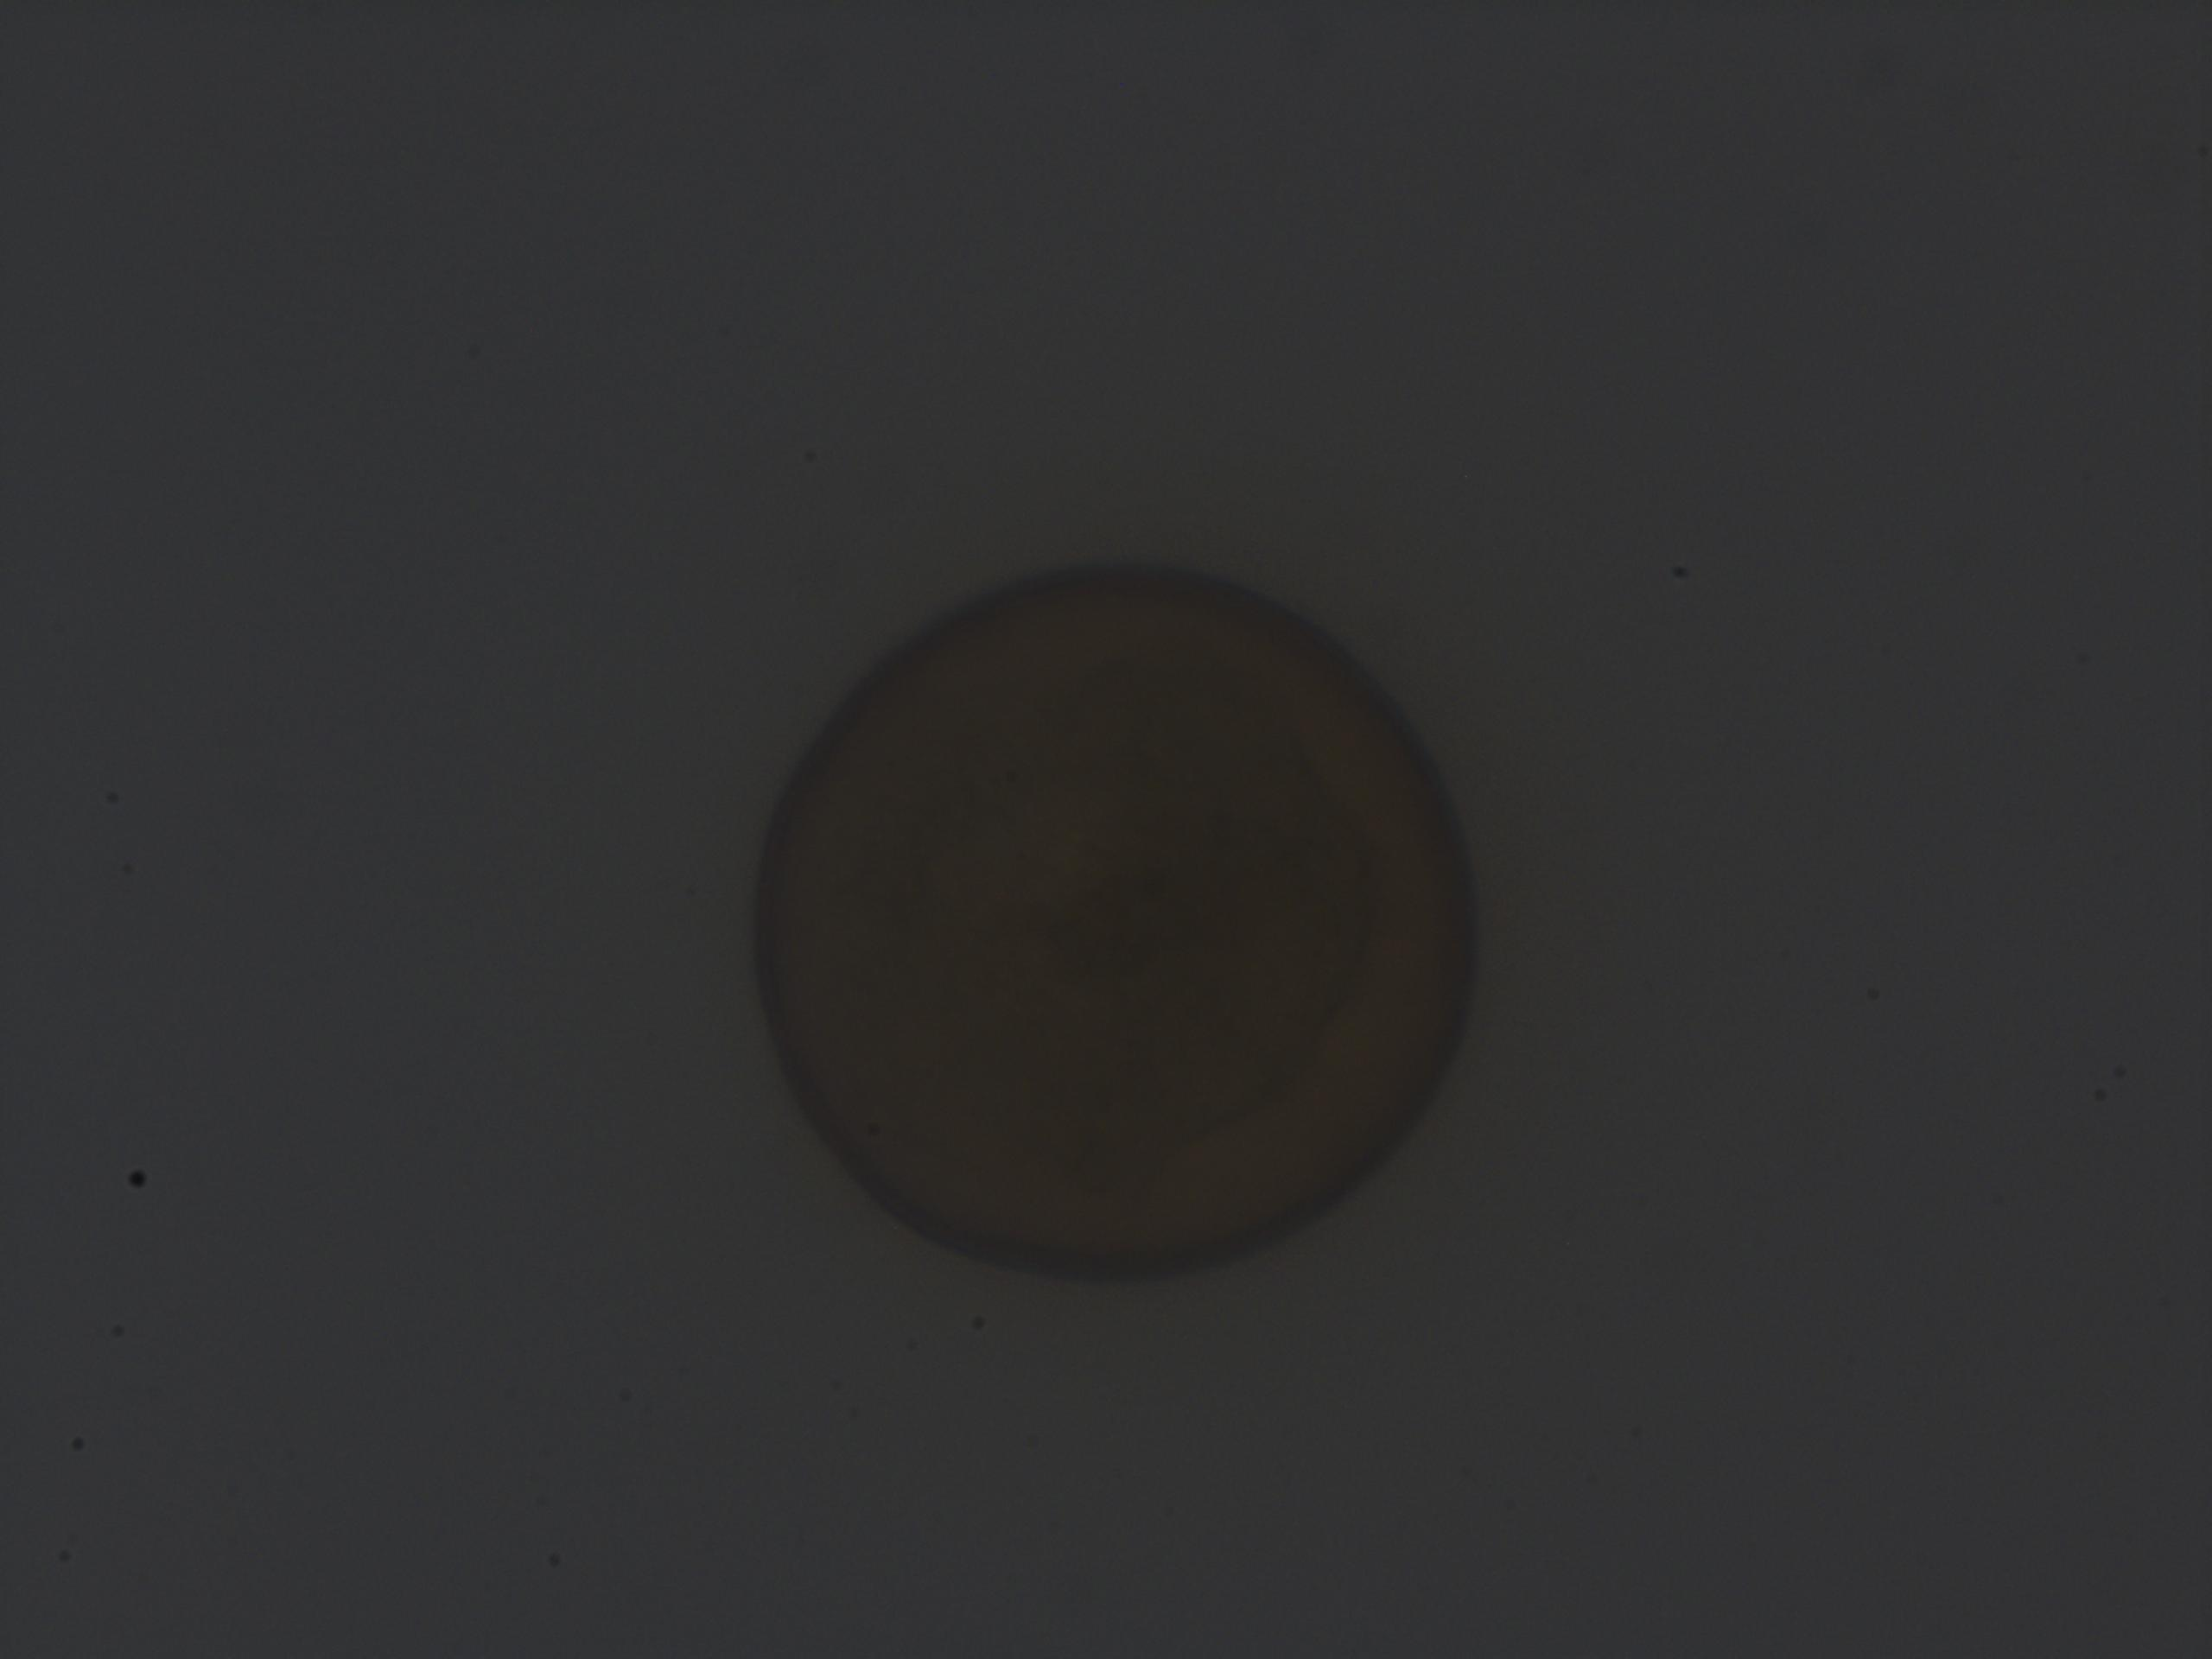protozoa: (690, 540, 1521, 1310)
